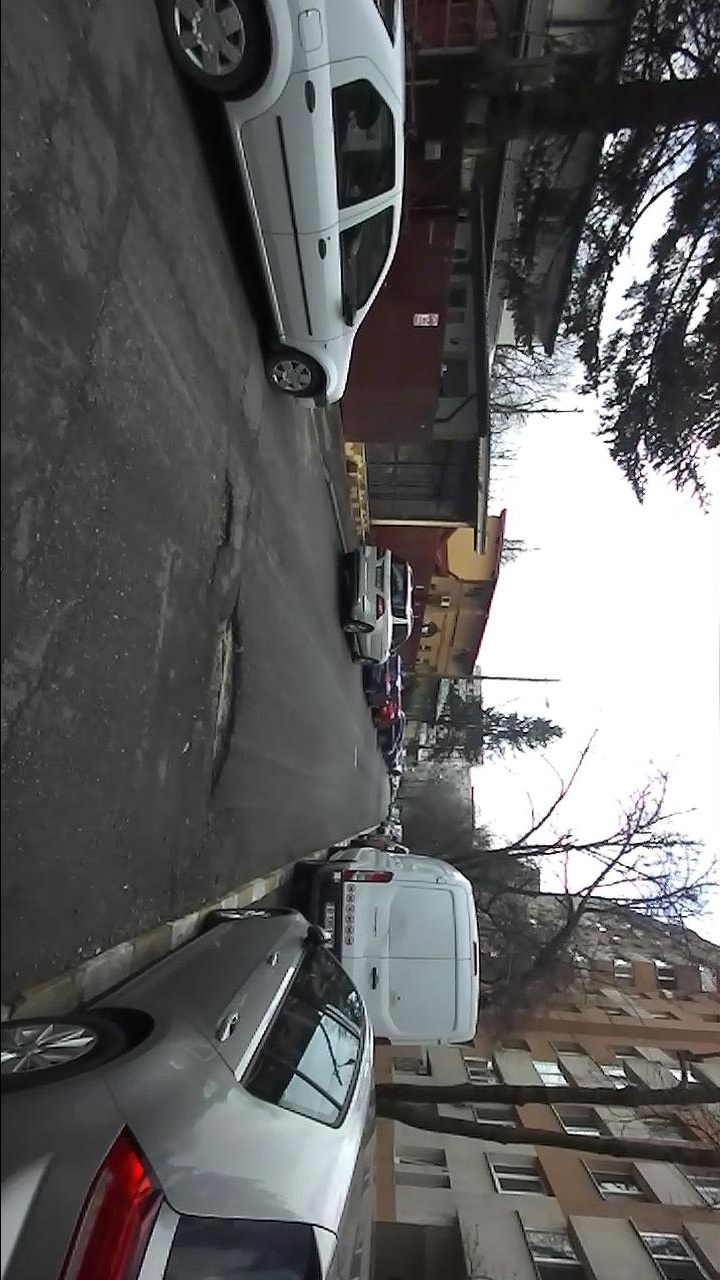pothole: (199, 590, 249, 806), (205, 466, 239, 586)
